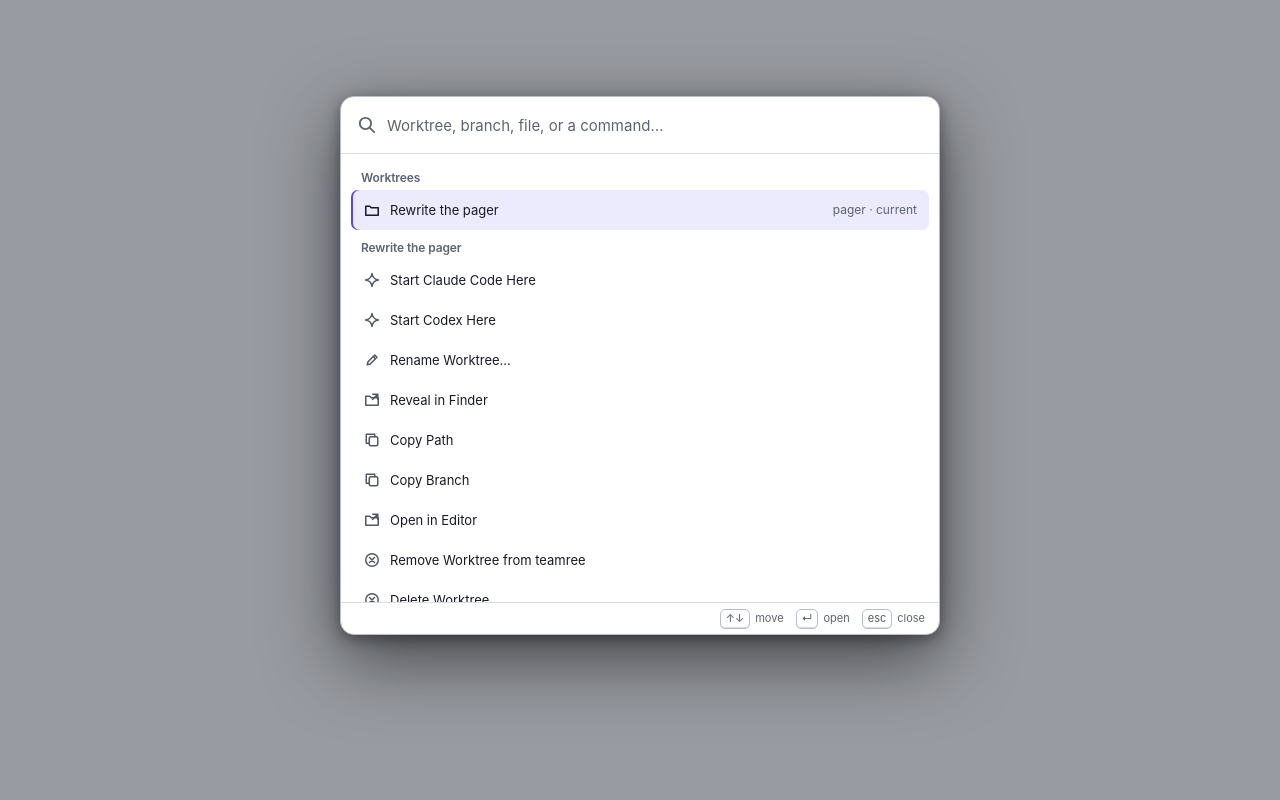
going to a file › adds up to five files under Files to the command results once two characters are typed
This screenshot has width=1280, height=800.
Type "b" into the field.
click(655, 125); type("b")  # box [387, 101, 923, 149]
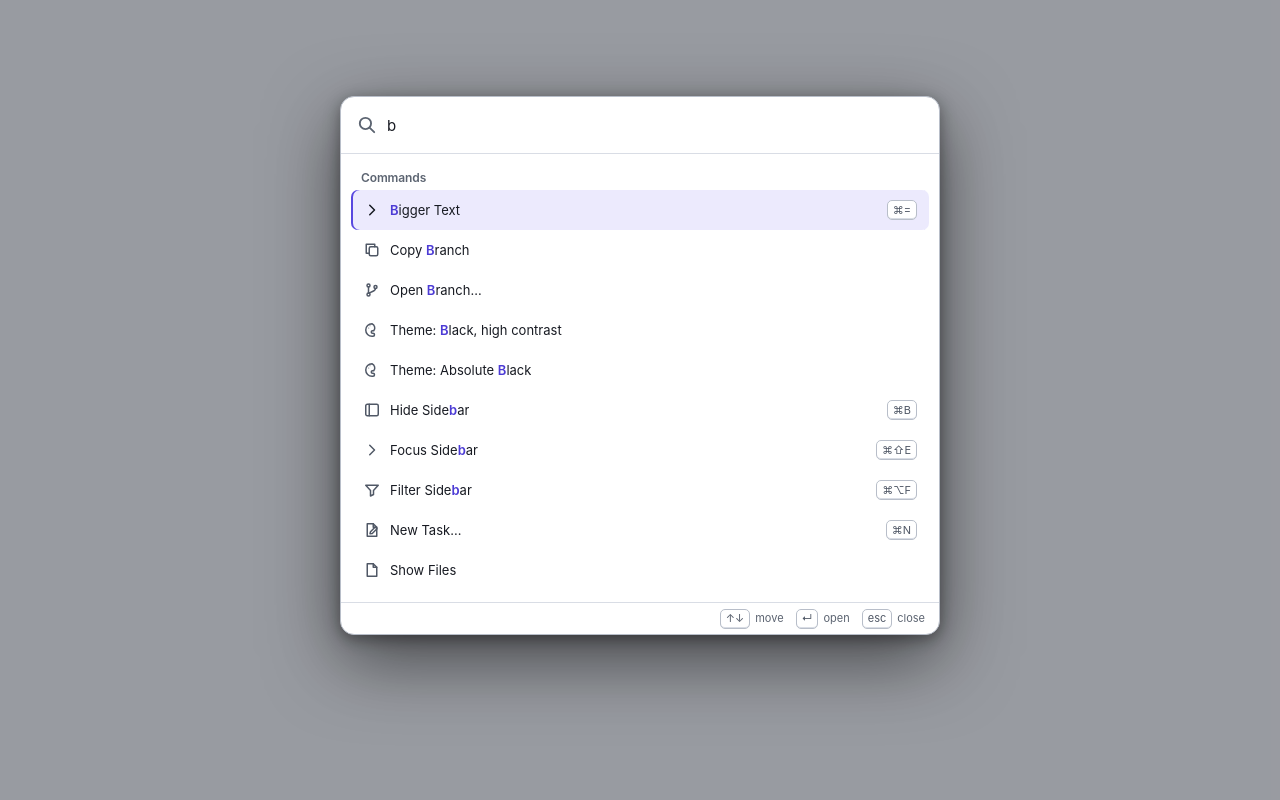
Replace the text in the field with "big" at x=655, y=125, box [387, 101, 923, 149]
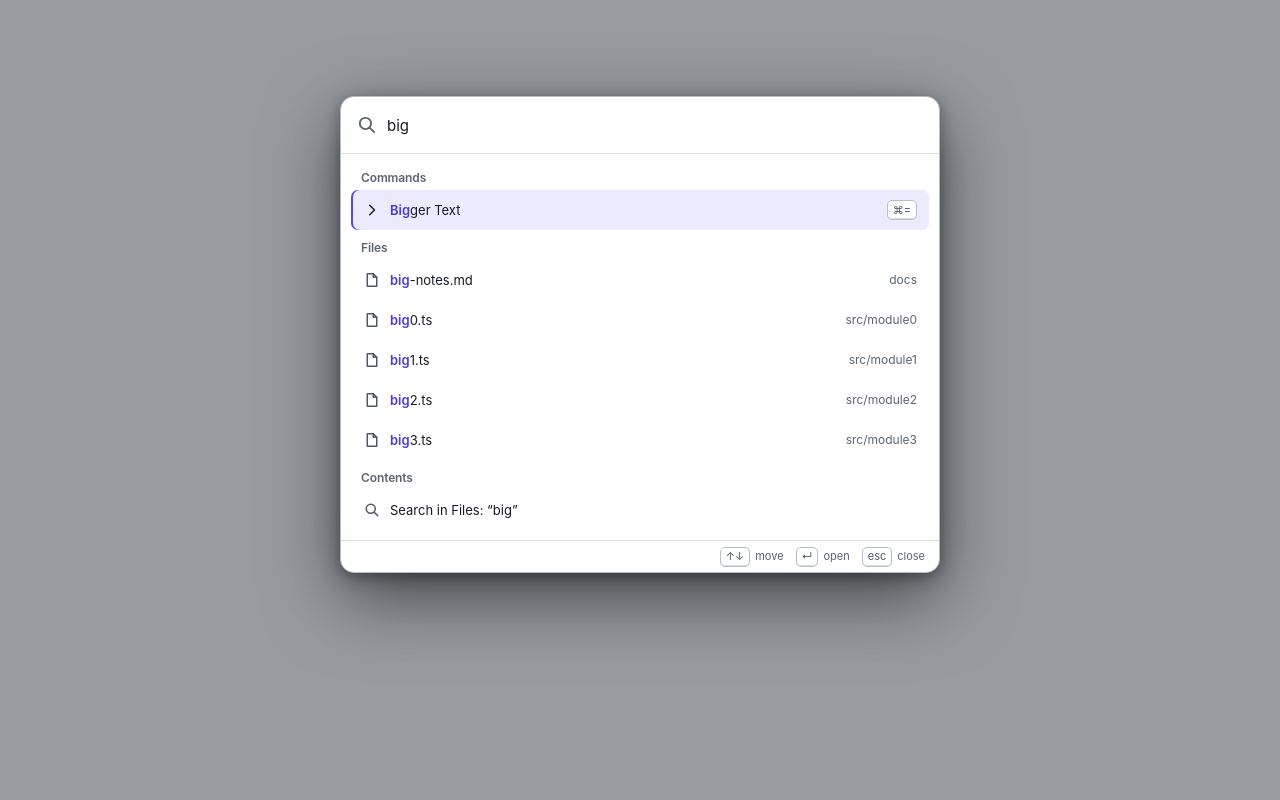
Expected: the option "Bigger Text ⌘=" is shown, [351, 190, 929, 230]
Expected: the text "Files" is shown, [361, 240, 387, 255]
